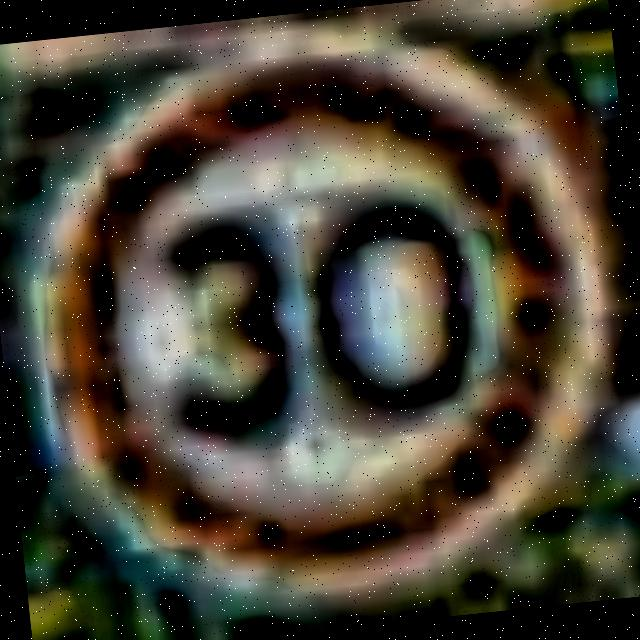speed_30: (22, 36, 608, 613)
